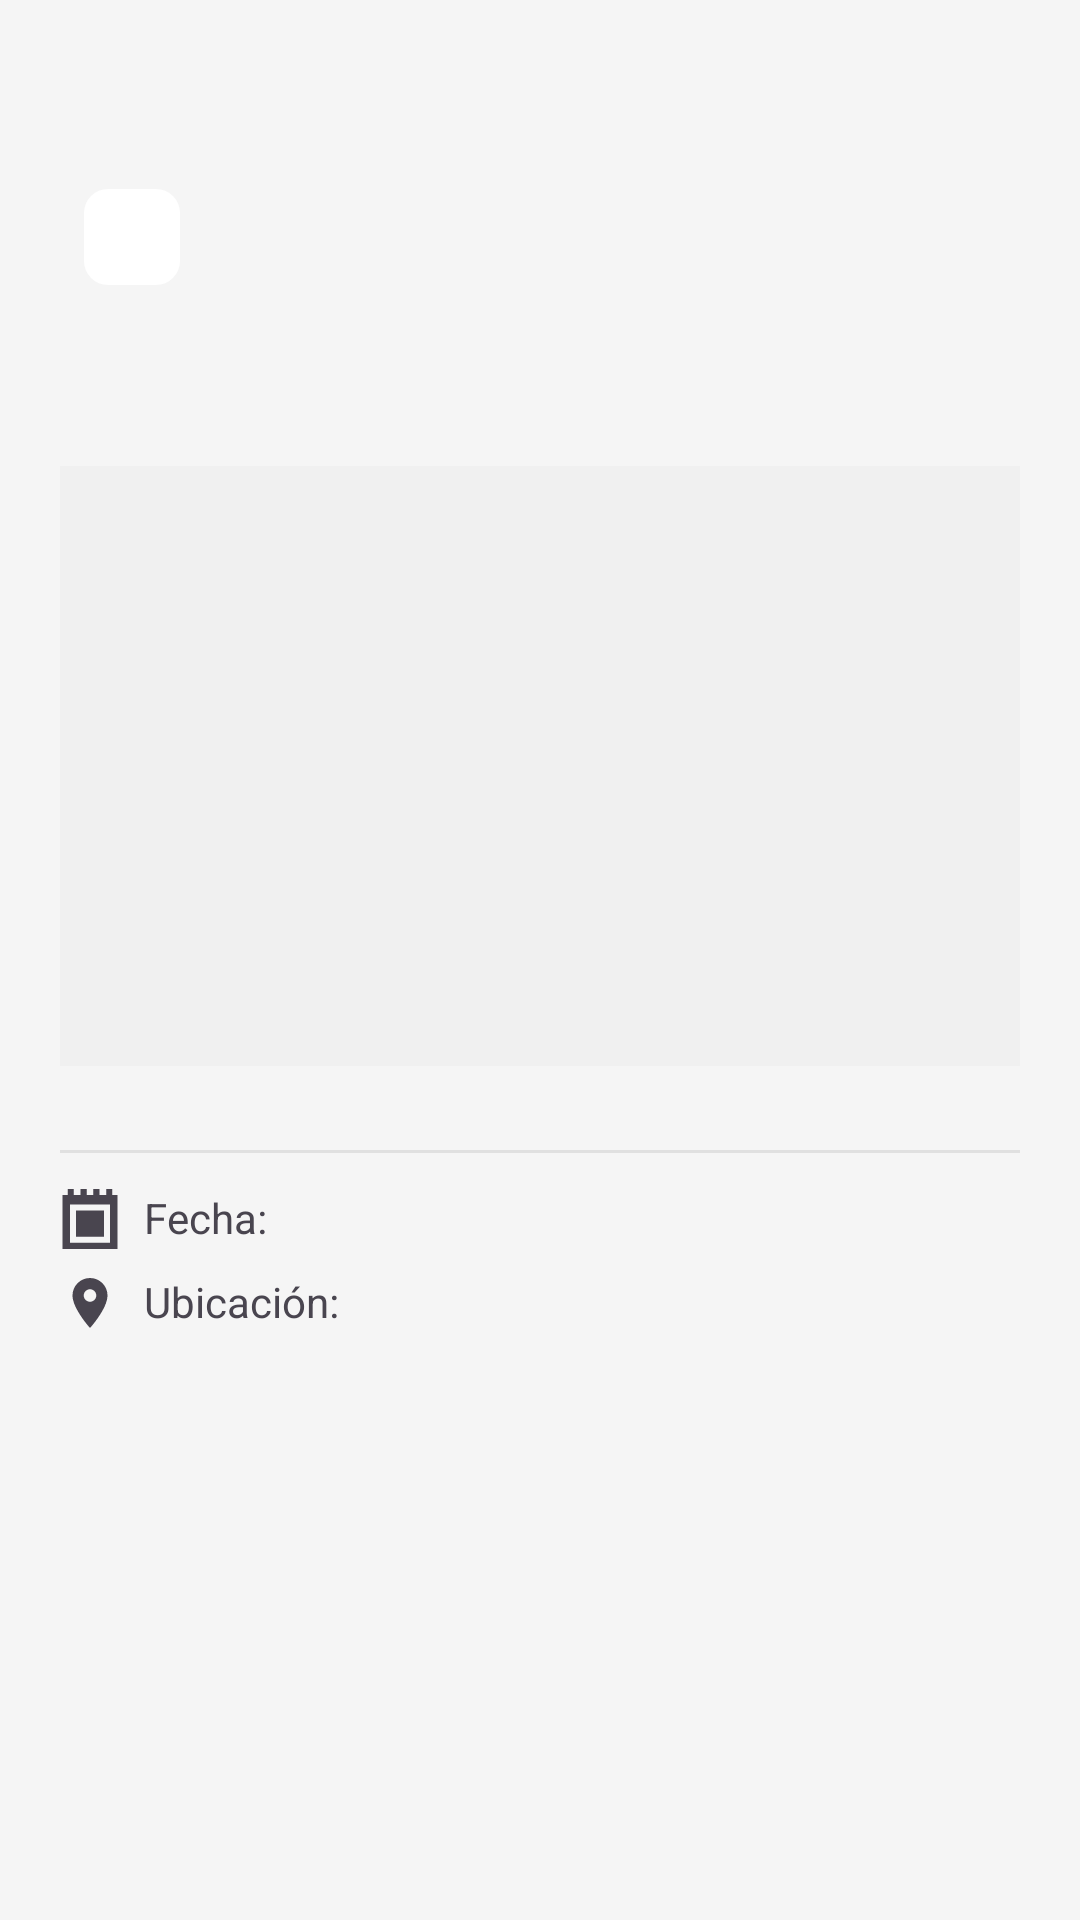

Named icons in this screenshot (1080x1920) and their bounding boxes, [x1,y1,x2,y2]:
calendar: [62,1189,118,1249]
location: [72,1278,108,1328]
